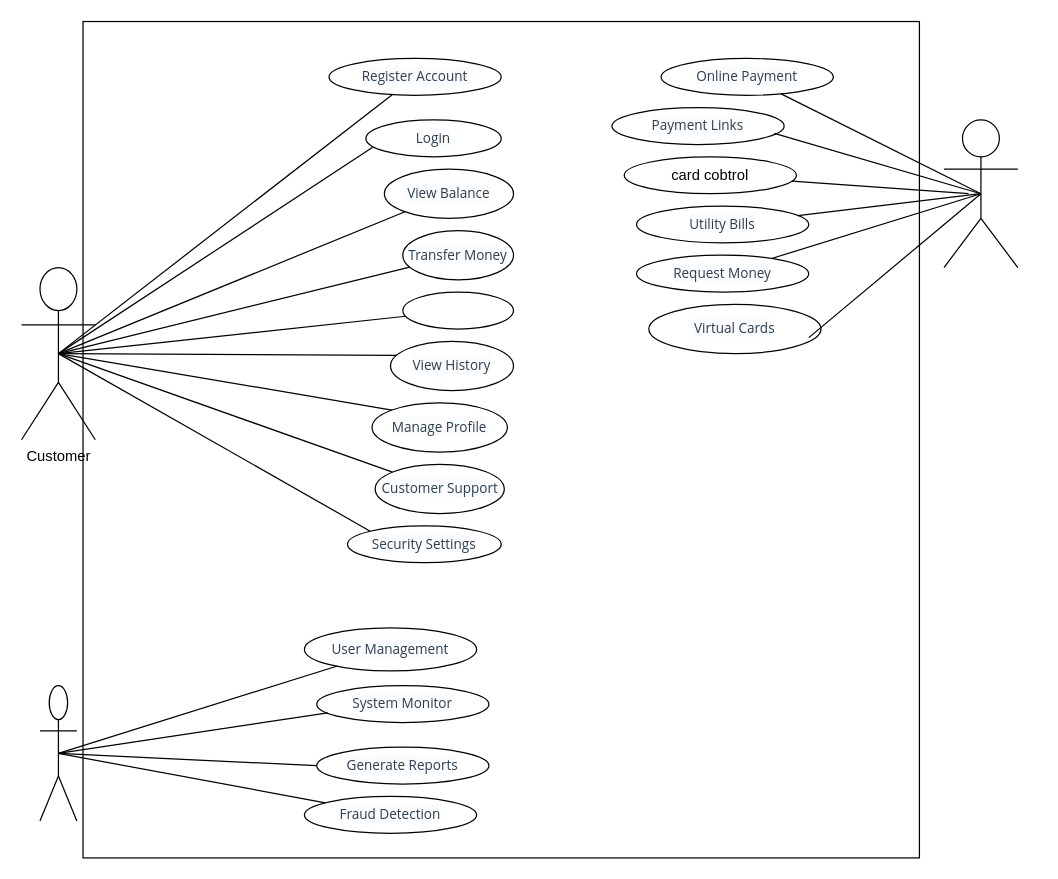
The diagram is 1058 pixels wide and 879 high, and some of its shapes have lost their labels. Here are the shapes that lost their labels. From the top down, the box of each, then its label:
(943, 119, 1018, 268): paymentgateway
(402, 291, 514, 329): Pay Bills
(39, 684, 77, 821): Admin
